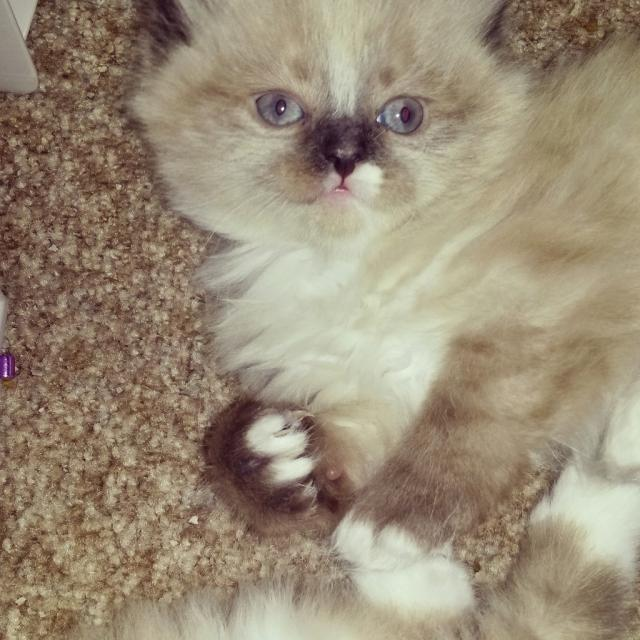Cat: (68, 0, 639, 639)
